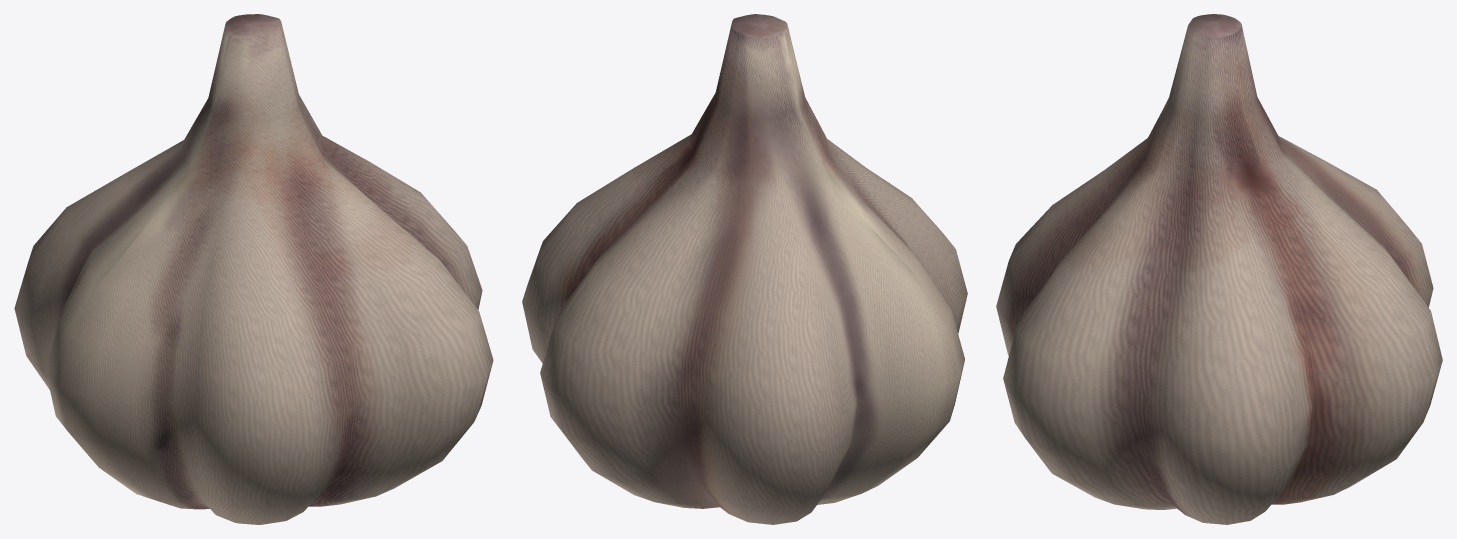
Rendered from Garlic.fbx.
3 renders of one model, left to right at view 1: azimuth 30°, elevation 25°; view 2: azimuth 150°, elevation 25°; view 3: azimuth 270°, elevation 25°, orthographic.
Visible parts, largest first — view 1: Alho; view 2: Alho; view 3: Alho.
Boxes of the visible parts, left/top/right/bottom form: Alho: left=14, top=14, right=493, bottom=524; Alho: left=522, top=14, right=967, bottom=524; Alho: left=996, top=14, right=1442, bottom=524.
Bounding box in the file's own units: 95.45 × 100 × 88.23.
